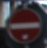No entry: (6, 6, 41, 43)
